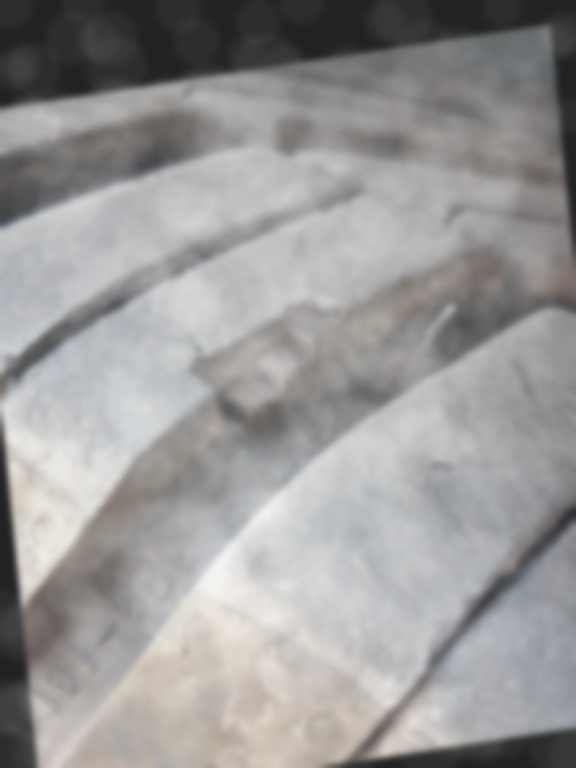temoin:90: (177, 275, 384, 462)
